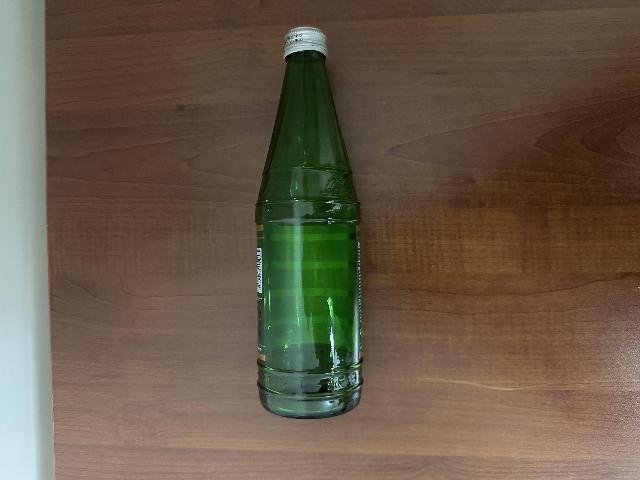Cam: (257, 57, 367, 413)
Metal: (276, 24, 335, 59)
